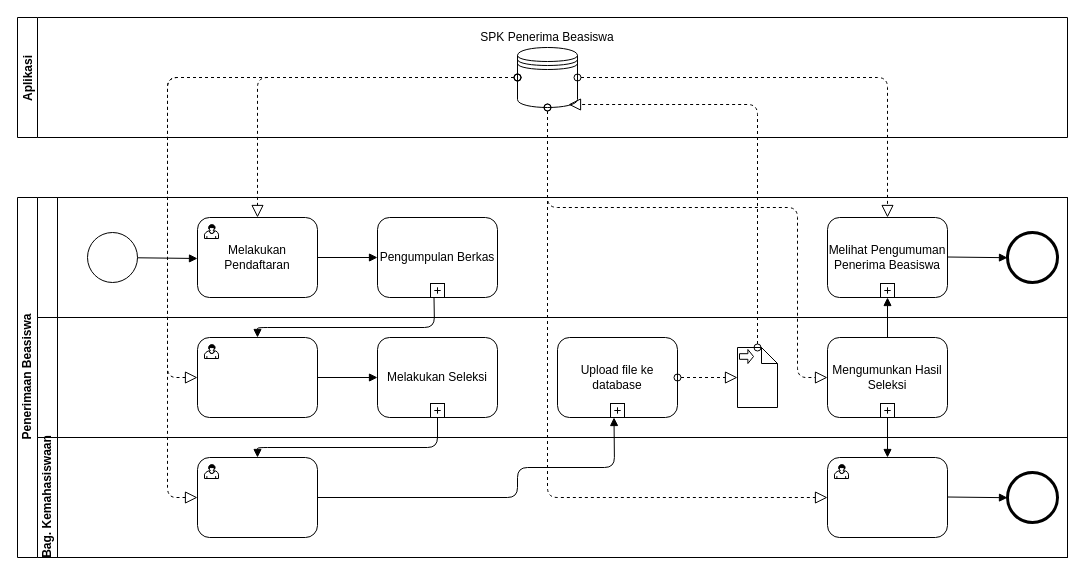
This 1085x576 diagram has some shape labels left out. The box of each missing label's shape, as (x1, y1, x2, y2) in pixels:
Mahasiswa: (36, 196, 1068, 318)
Melihat Penerima Beasiswa: (826, 456, 948, 538)
Menyetujui Pemohon Beasiswa: (196, 456, 318, 538)
Penetapan Data Pemohon Beasiswa: (196, 336, 318, 418)
Penyeleksi: (36, 316, 1068, 438)
